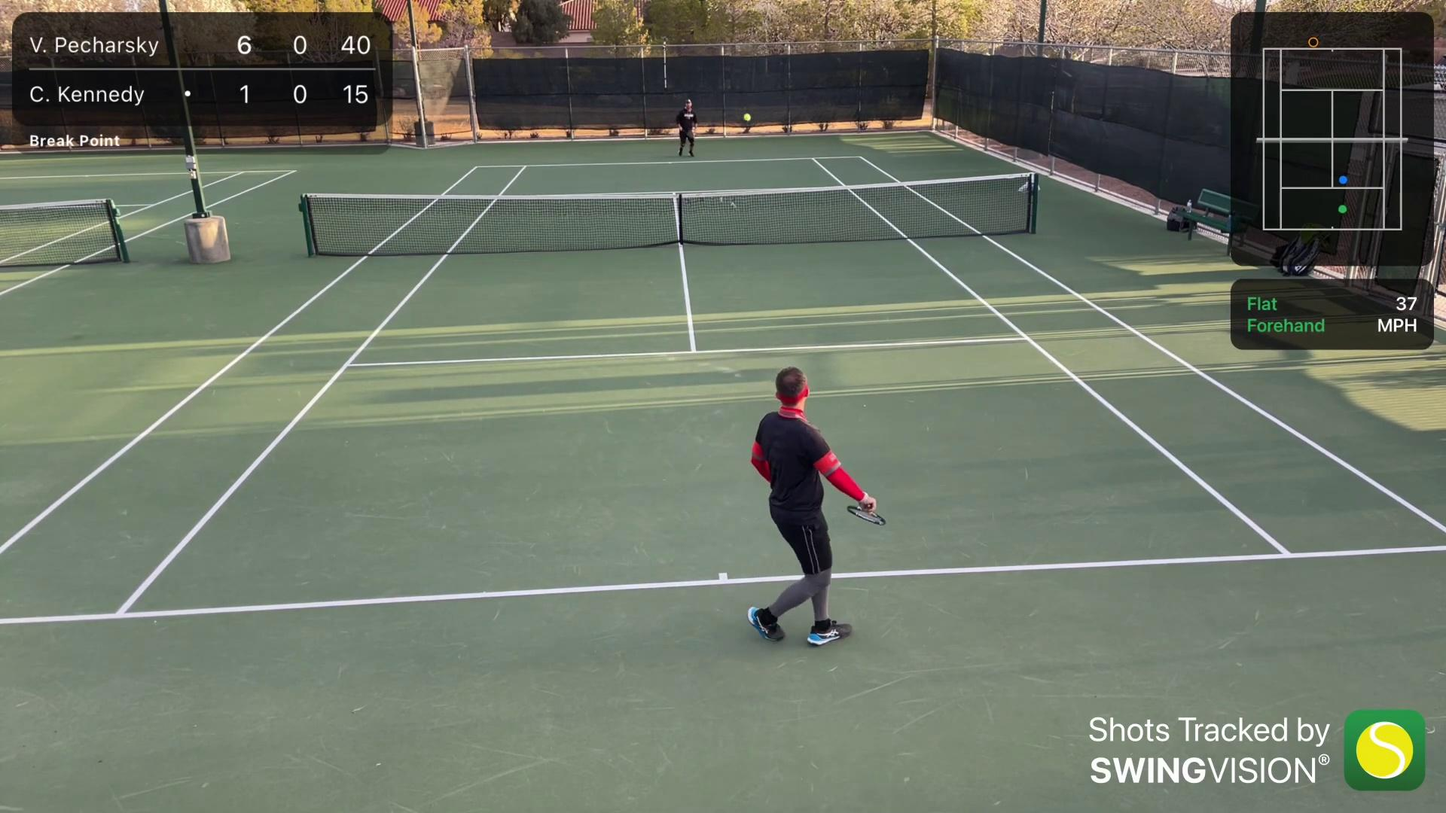ball: (742, 113, 752, 122)
